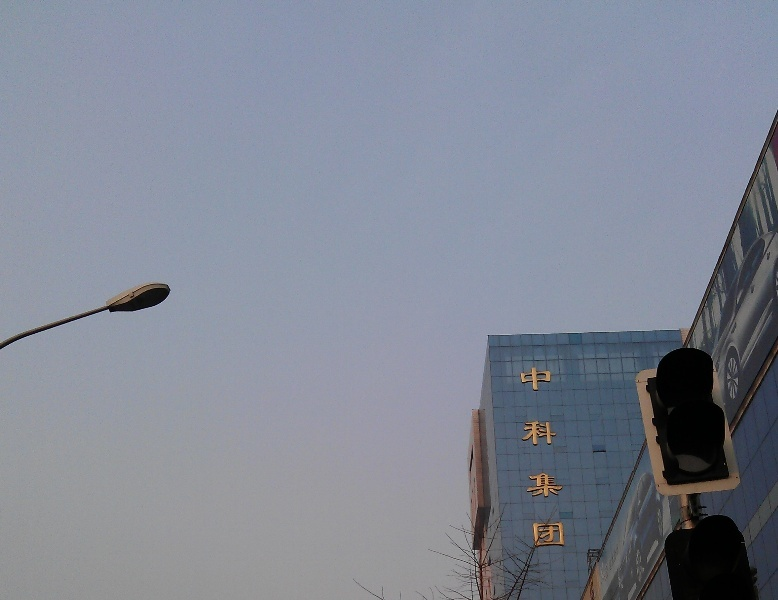text: (529, 359, 544, 553), (545, 359, 560, 553), (518, 359, 528, 553), (561, 359, 566, 553)
